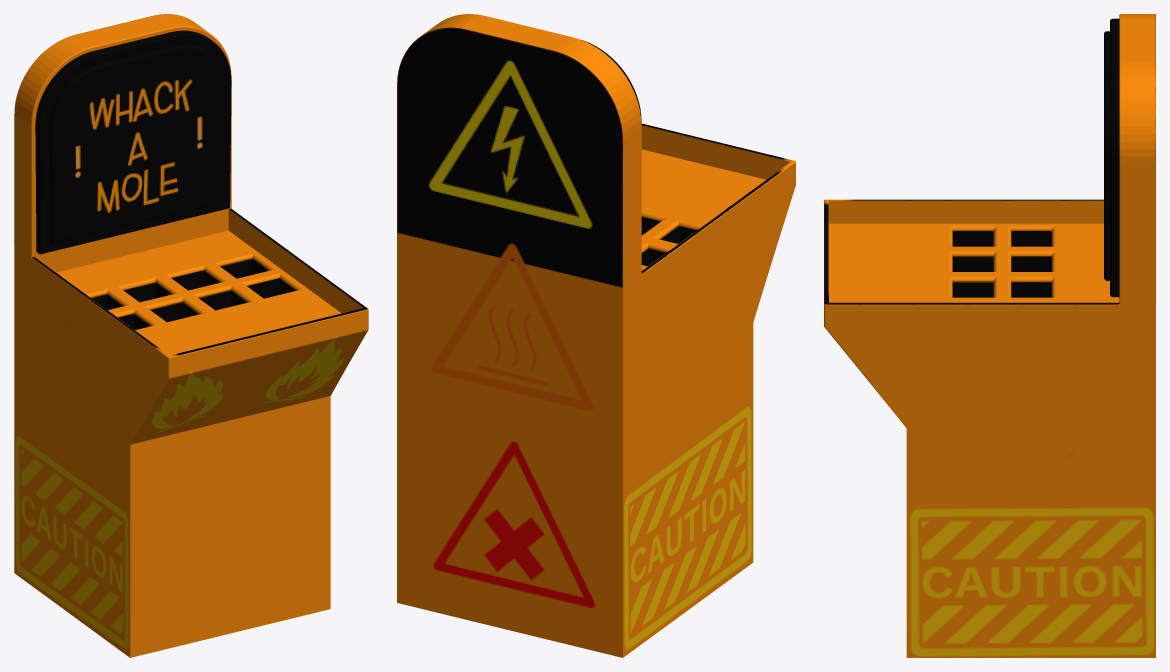
The model's file is WhackAMoleMachineA.glb.
3 renders of one model, left to right at view 1: azimuth 30°, elevation 25°; view 2: azimuth 150°, elevation 25°; view 3: azimuth 270°, elevation 25°, orthographic. The views are drawn at different scales.
Visible parts, largest first — view 1: Cube; view 2: Cube; view 3: Cube.
Part boxes in pixels (x1=…): Cube: x1=14, y1=14, x2=368, y2=657; Cube: x1=397, y1=14, x2=795, y2=657; Cube: x1=824, y1=14, x2=1155, y2=657.
Size of the model in its own units: 2 by 4.99 by 2.66.
Materials: 1 (1 with a texture image).
